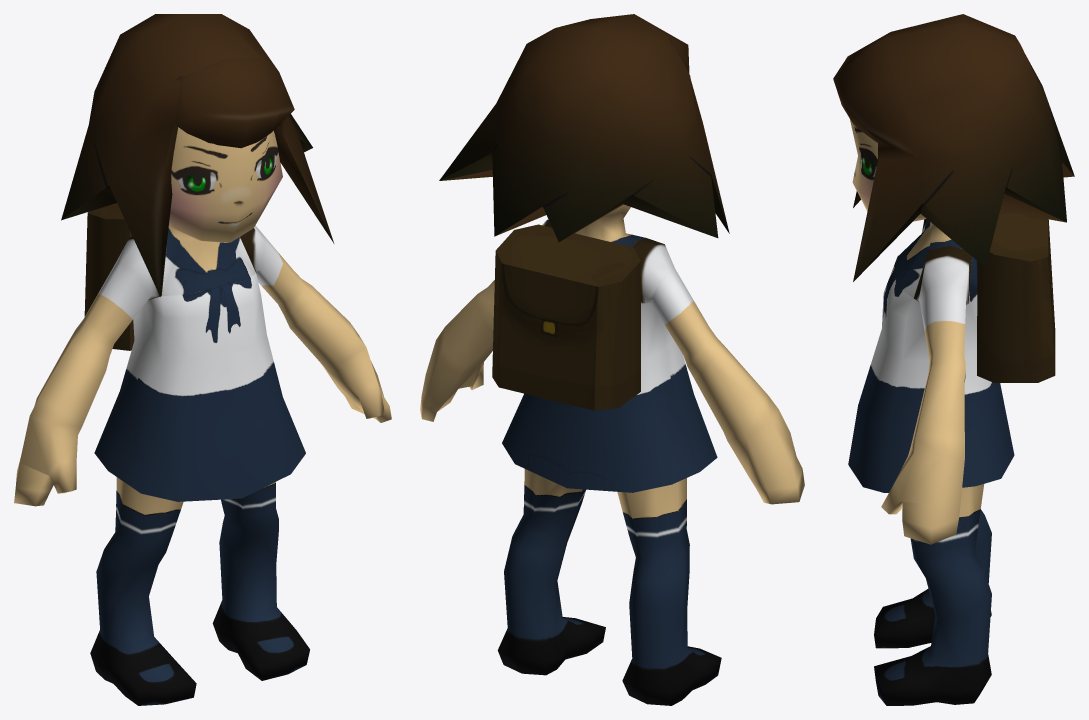
File: Human_SchoolGirl.FBX
3 views of the same model, side by side, from view 1: azimuth 30°, elevation 25°; view 2: azimuth 150°, elevation 25°; view 3: azimuth 270°, elevation 25° (orthographic). The views are drawn at different scales.
Parts seen in each view (by area): view 1: Human_SchoolGirl, School_bag; view 2: Human_SchoolGirl, School_bag; view 3: Human_SchoolGirl, School_bag.
Boxes of the visible parts, x1,y1,x2,y2 form: Human_SchoolGirl: (14,14,391,705); School_bag: (84,203,134,350); Human_SchoolGirl: (420,14,804,705); School_bag: (492,224,640,410); Human_SchoolGirl: (833,14,1074,705); School_bag: (977,210,1055,382).
Bounding box in the file's own units: 84.76 × 140 × 47.78.
